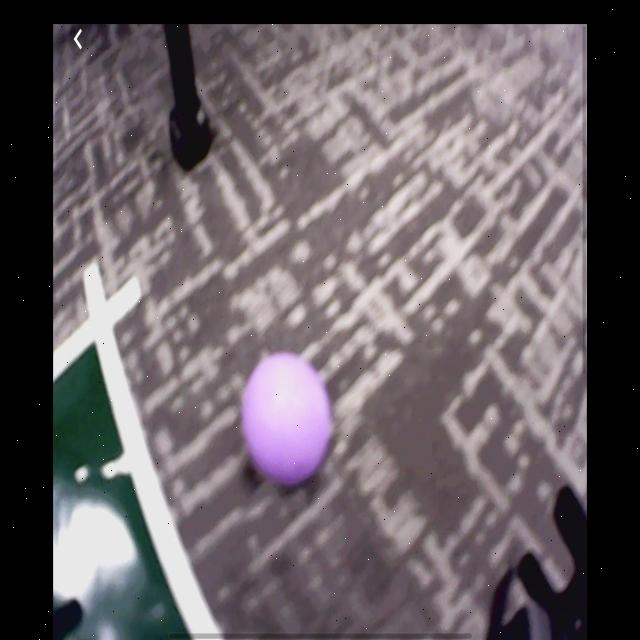ball: (246, 356, 332, 489)
